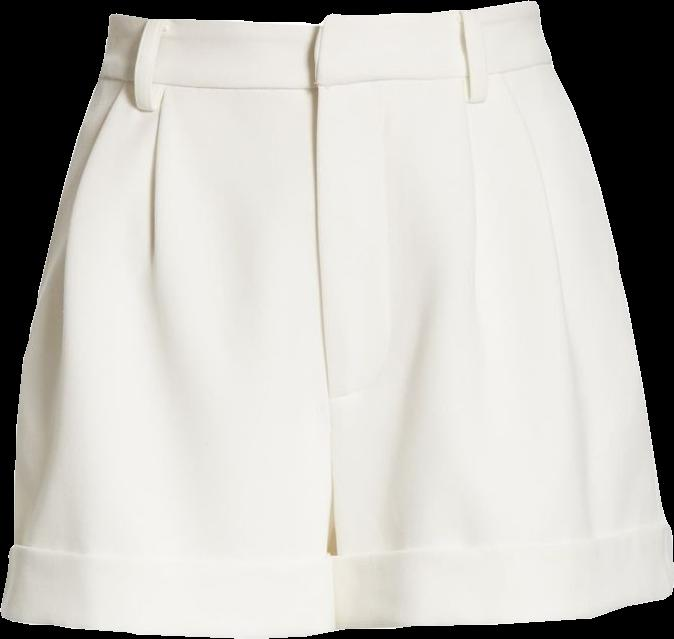Hemline: (336, 586, 673, 633), (0, 611, 341, 638)
Pantleg: (311, 2, 672, 629), (1, 14, 338, 638)
Waistline: (95, 57, 555, 94), (105, 0, 535, 27)
